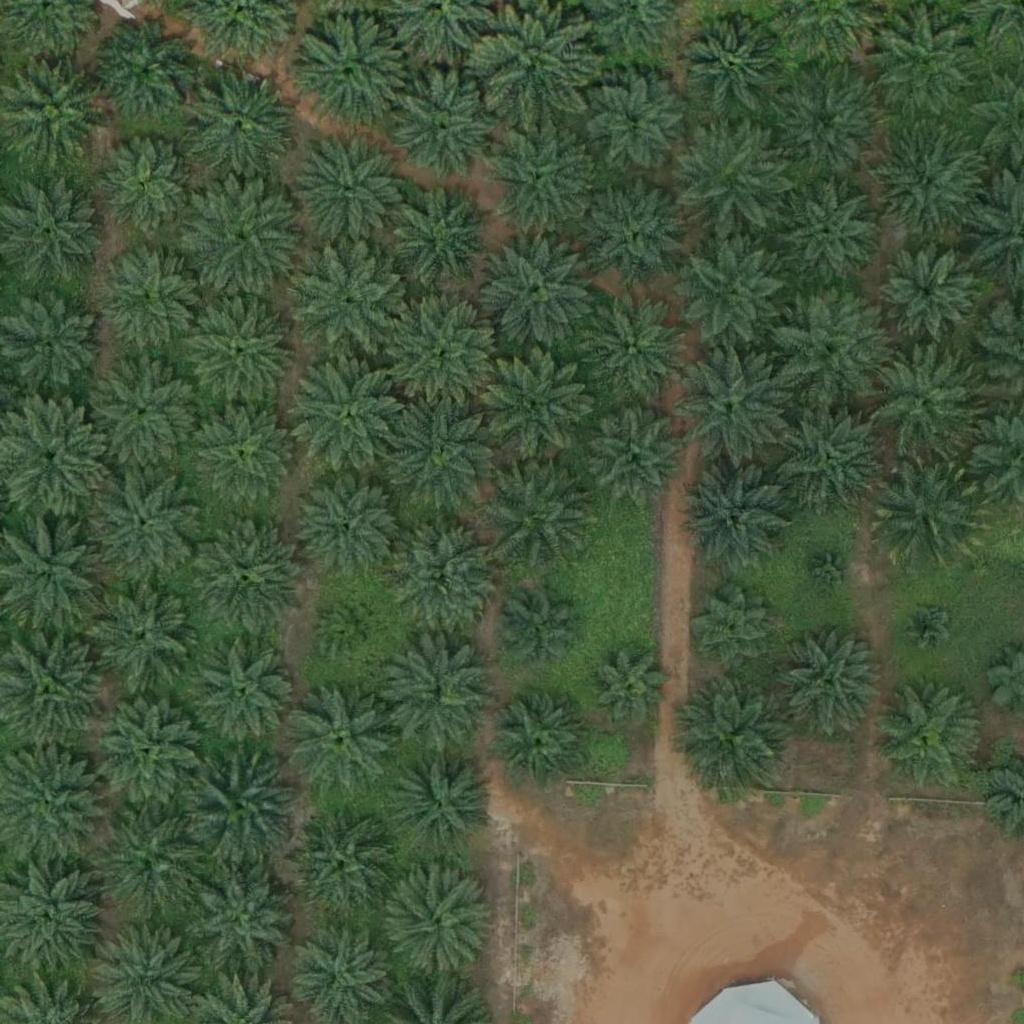Kelapa_Sawit: (870, 8, 983, 122), (873, 128, 986, 242), (387, 517, 500, 631), (293, 358, 406, 472), (92, 806, 205, 920), (296, 11, 409, 124), (478, 7, 591, 120), (677, 238, 790, 351), (677, 351, 790, 464), (680, 466, 793, 579), (575, 287, 688, 400), (391, 298, 504, 411), (385, 393, 498, 506), (292, 133, 405, 246), (296, 249, 409, 362), (183, 68, 296, 181), (188, 182, 301, 295), (285, 684, 398, 797), (282, 806, 395, 919), (381, 641, 494, 754), (385, 745, 498, 858), (385, 868, 498, 981), (680, 679, 793, 792), (189, 296, 301, 410), (94, 696, 206, 810), (186, 861, 298, 975), (872, 679, 984, 793), (871, 455, 983, 568), (769, 66, 881, 179), (869, 345, 981, 458), (769, 291, 881, 404), (773, 398, 885, 511), (672, 120, 784, 233), (484, 124, 596, 237), (481, 235, 593, 348), (486, 347, 598, 460), (485, 454, 597, 567), (391, 69, 503, 182), (191, 522, 303, 635), (90, 359, 202, 472), (94, 469, 206, 582), (88, 578, 200, 691), (186, 754, 298, 867), (773, 629, 885, 742), (94, 19, 194, 120), (586, 76, 686, 177), (686, 18, 786, 119), (878, 242, 978, 343), (780, 183, 880, 284), (586, 180, 686, 281), (587, 407, 687, 508), (396, 186, 496, 287), (196, 643, 296, 744), (301, 475, 401, 575), (194, 406, 294, 506), (95, 138, 195, 238), (100, 252, 200, 352), (3, 296, 103, 396), (496, 697, 584, 786), (692, 587, 779, 675), (505, 597, 580, 673), (591, 648, 666, 723), (322, 600, 384, 663), (807, 545, 857, 596), (901, 601, 951, 652)
